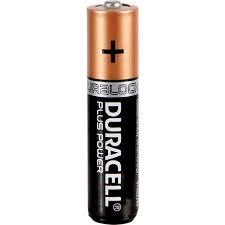AAA: (84, 2, 144, 225)
